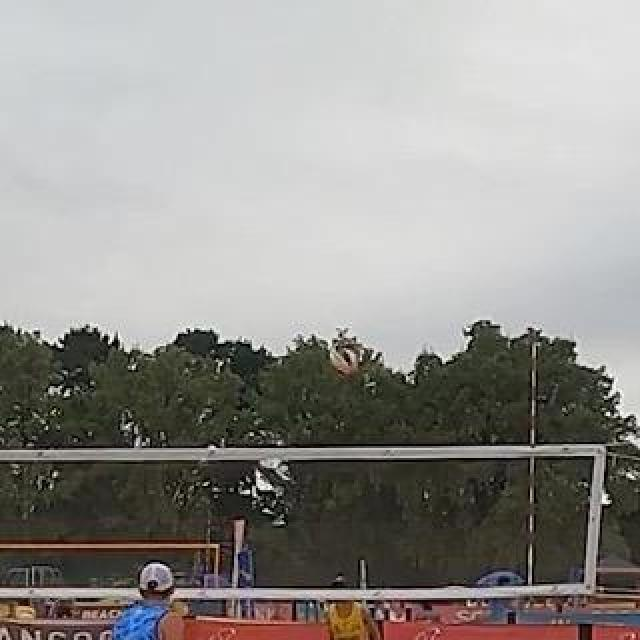volleyball: (332, 347, 358, 373)
